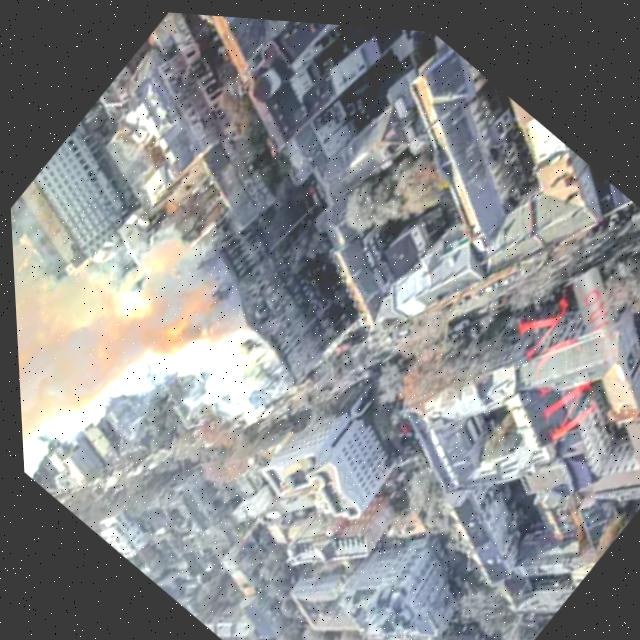Smoke: (5, 131, 307, 565)
